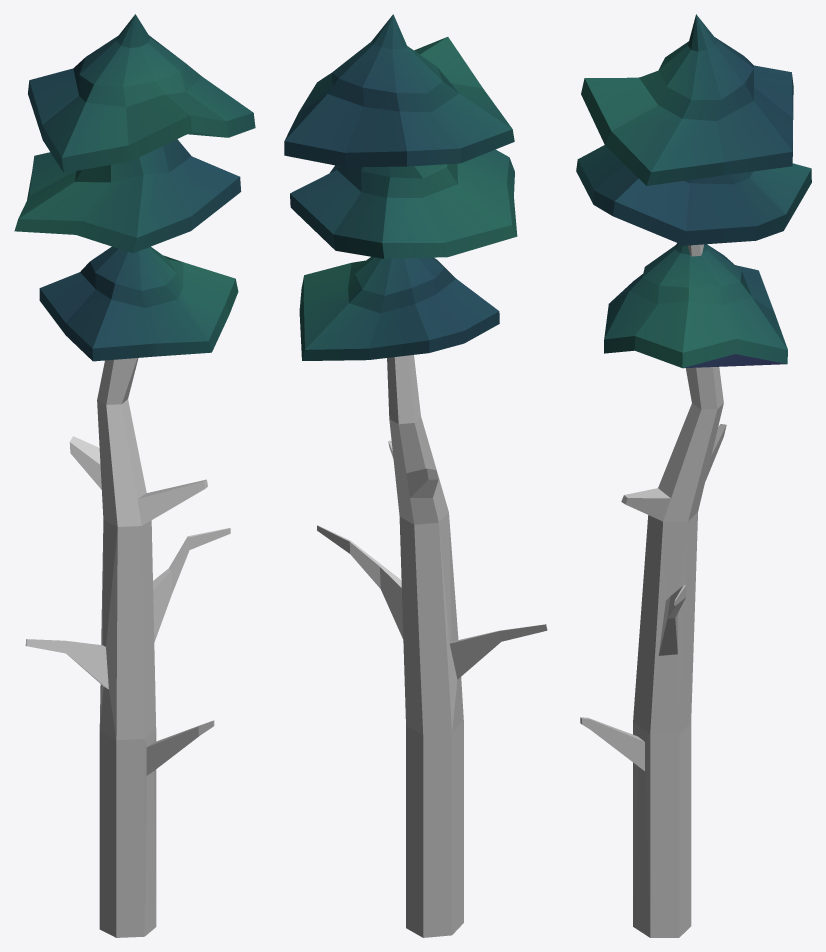
The model's file is Tree_Pine01.fbx.
3 views of the same model, side by side, from view 1: azimuth 30°, elevation 25°; view 2: azimuth 150°, elevation 25°; view 3: azimuth 270°, elevation 25° (orthographic). The views are drawn at different scales.
Parts seen in each view (by area): view 1: TolTreeTrunk1; view 2: TolTreeTrunk1; view 3: TolTreeTrunk1.
Part boxes in pixels (bbox=[...]): TolTreeTrunk1: bbox=[14, 14, 255, 937]; TolTreeTrunk1: bbox=[284, 14, 547, 937]; TolTreeTrunk1: bbox=[576, 14, 811, 937].
Bounding box in the file's own units: 154 × 584 × 135.
